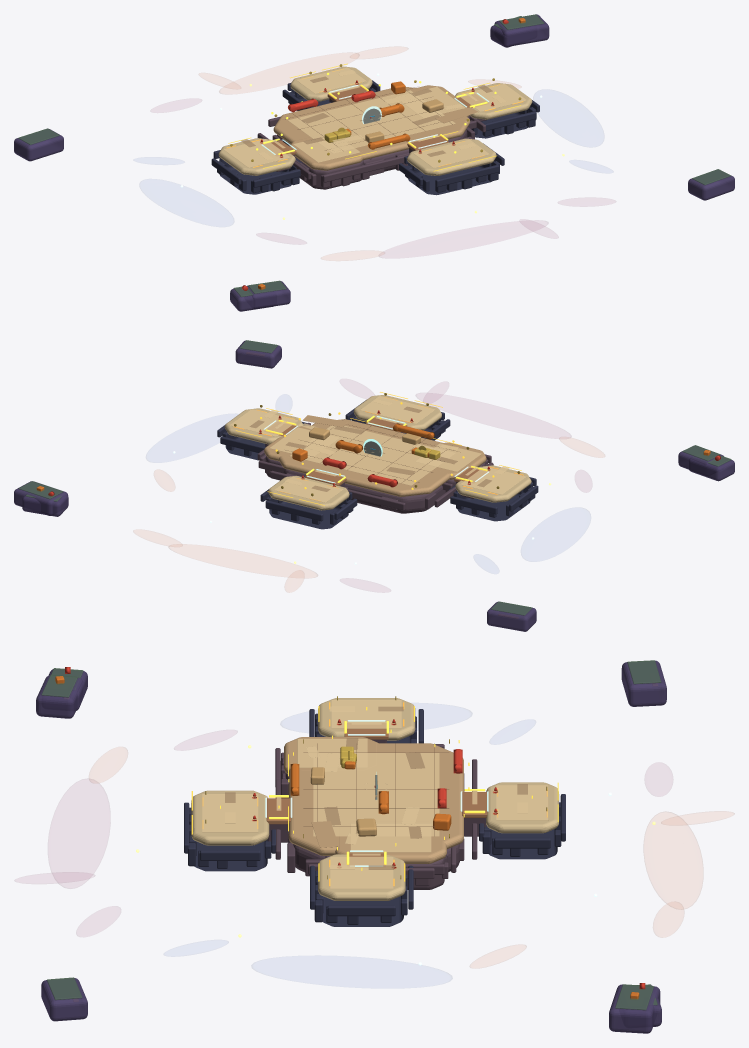
The model's file is open_ringout_visuals.glb.
The picture shows the model from 3 angles, top to bottom: view 1: azimuth 30°, elevation 25°; view 2: azimuth 150°, elevation 25°; view 3: azimuth 270°, elevation 25°; orthographic projection. The views are drawn at different scales.
Parts seen in each view (by area): view 1: main_deck_irregular_top_slab, A1MainDeckHeroCrown, WarmCloudBankSouth, CoolCloudBankRight, CoolCloudBankLeft, south_deck_irregular_top_slab, WarmCloudBankNorth, west_deck_irregular_top_slab, north_deck_irregular_top_slab, east_deck_irregular_top_slab, main_west_lip_irregular_top_slab, FarFloatingIslandLeft_cliff (+14 smaller); view 2: main_deck_irregular_top_slab, A1MainDeckHeroCrown, WarmCloudBankSouth, CoolCloudBankLeft, WarmCloudBankNorth, CoolCloudBankRight, north_deck_irregular_top_slab, south_deck_irregular_top_slab, west_deck_irregular_top_slab, east_deck_irregular_top_slab, FarFloatingIslandLeft_cliff, A1SouthDeckHeroCrown (+17 smaller); view 3: main_deck_irregular_top_slab, A1MainDeckHeroCrown, WarmCloudBankSouth, CoolCloudBankRight, WarmCloudBankNorth, south_deck_irregular_top_slab, north_deck_irregular_top_slab, east_deck_irregular_top_slab, west_deck_irregular_top_slab, main_east_lip_irregular_top_slab, A1SouthDeckHeroCrown, A1MainEastLipHeroCrown (+28 smaller).
Part boxes in pixels (x1,y1,x2,y2): main_deck_irregular_top_slab: [273, 87, 470, 160]; A1MainDeckHeroCrown: [288, 90, 455, 153]; WarmCloudBankSouth: [379, 220, 547, 257]; CoolCloudBankRight: [533, 90, 603, 146]; CoolCloudBankLeft: [140, 179, 233, 226]; south_deck_irregular_top_slab: [407, 138, 496, 175]; WarmCloudBankNorth: [219, 53, 359, 93]; west_deck_irregular_top_slab: [218, 138, 295, 175]; north_deck_irregular_top_slab: [290, 66, 372, 101]; east_deck_irregular_top_slab: [455, 83, 532, 119]; main_west_lip_irregular_top_slab: [289, 134, 363, 170]; FarFloatingIslandLeft_cliff: [14, 129, 63, 161]; main_deck_irregular_top_slab: [278, 419, 449, 496]; A1MainDeckHeroCrown: [290, 425, 455, 485]; WarmCloudBankSouth: [416, 393, 571, 438]; CoolCloudBankLeft: [521, 508, 590, 561]; WarmCloudBankNorth: [169, 544, 317, 577]; CoolCloudBankRight: [146, 414, 237, 462]; north_deck_irregular_top_slab: [268, 475, 349, 510]; south_deck_irregular_top_slab: [353, 395, 441, 430]; west_deck_irregular_top_slab: [455, 465, 531, 502]; east_deck_irregular_top_slab: [224, 408, 302, 444]; FarFloatingIslandLeft_cliff: [487, 602, 536, 631]; A1SouthDeckHeroCrown: [360, 395, 435, 423]; main_deck_irregular_top_slab: [288, 743, 463, 855]; A1MainDeckHeroCrown: [313, 753, 439, 836]; WarmCloudBankSouth: [48, 779, 110, 888]; CoolCloudBankRight: [252, 956, 452, 987]; WarmCloudBankNorth: [644, 812, 702, 909]; south_deck_irregular_top_slab: [191, 790, 269, 845]; north_deck_irregular_top_slab: [486, 782, 558, 833]; east_deck_irregular_top_slab: [318, 854, 405, 900]; west_deck_irregular_top_slab: [318, 698, 415, 740]; main_east_lip_irregular_top_slab: [335, 822, 446, 863]; A1SouthDeckHeroCrown: [202, 793, 258, 832]; A1MainEastLipHeroCrown: [350, 823, 431, 852].
Size of the model in its own units: 172 by 18.97 by 148.
